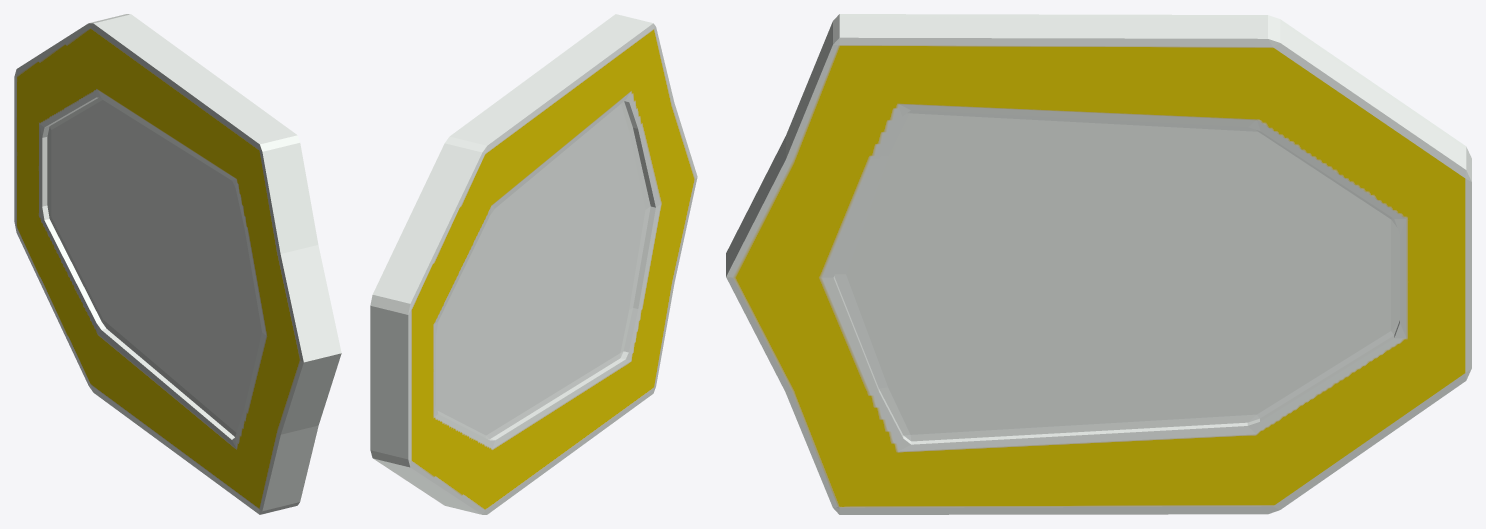
File: shieldBooster.fbx
3 renders of one model, left to right at view 1: azimuth 30°, elevation 25°; view 2: azimuth 150°, elevation 25°; view 3: azimuth 270°, elevation 25°, orthographic. The views are drawn at different scales.
Parts seen in each view (by area): view 1: Cube.002; view 2: Cube.002; view 3: Cube.002.
Boxes of the visible parts, x1,y1,x2,y2 form: Cube.002: (14, 14, 341, 514); Cube.002: (370, 14, 697, 514); Cube.002: (726, 14, 1471, 514).
Bounding box in the file's own units: 19.22 × 176 × 249.
1 material, 1 textured.
